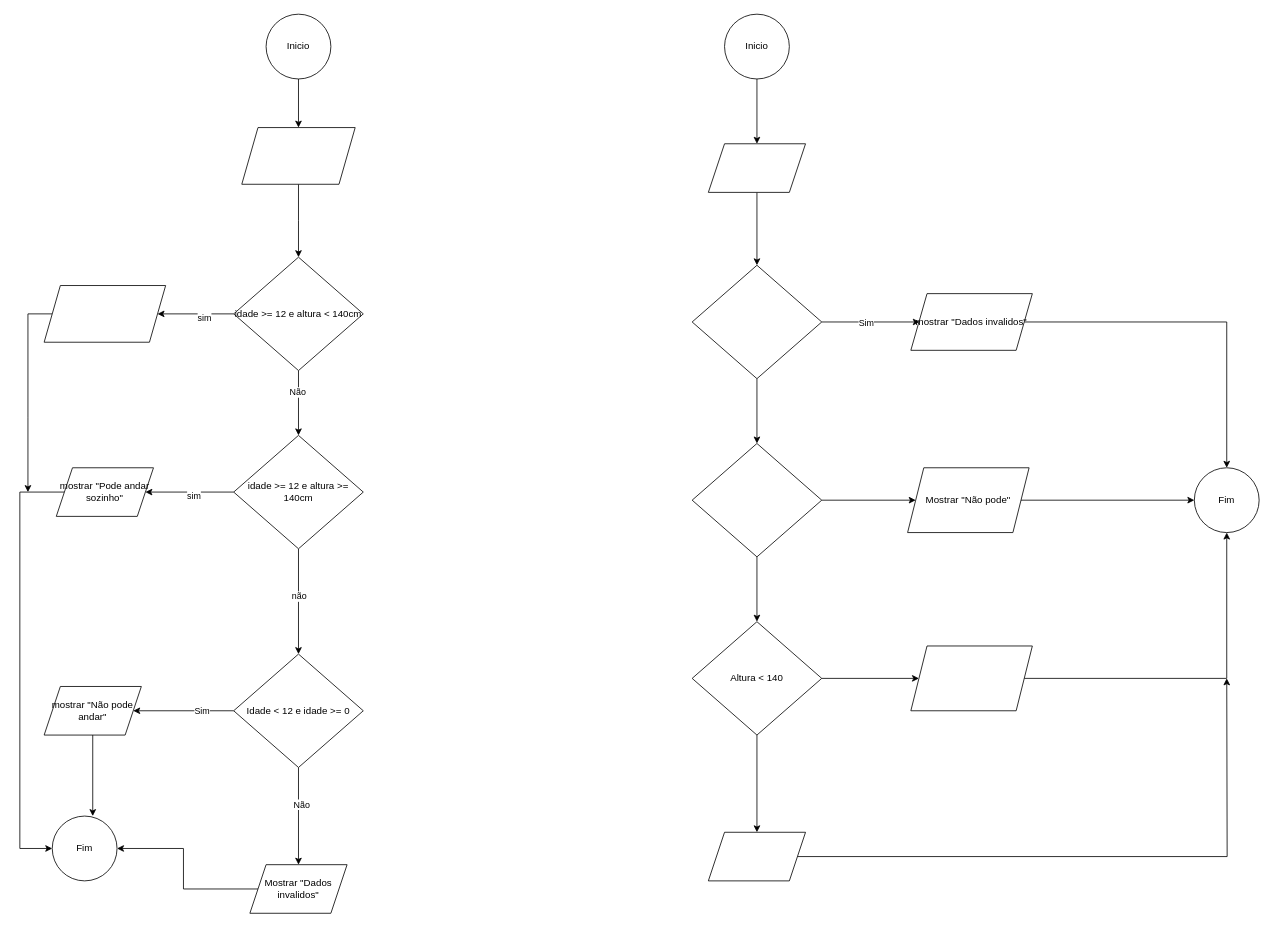
Image size: 1273x927. Some labels were removed from this diagram. The shapes that lost their labels are listed below. From the top down, each one's centre as x and y in pixels, then its label:
(298,155): Ler idade , altura
(757,167): Ler idade, altura
(104,313): mostrar "Só Pode andar com adulto"
(756,321): idade <= 0 ou altura <= 0
(756,500): Idade <12
(971,678): Mostrar "Só pode acompanhado por um adulto"
(757,856): Mostrar "Podes andar sozinho"
